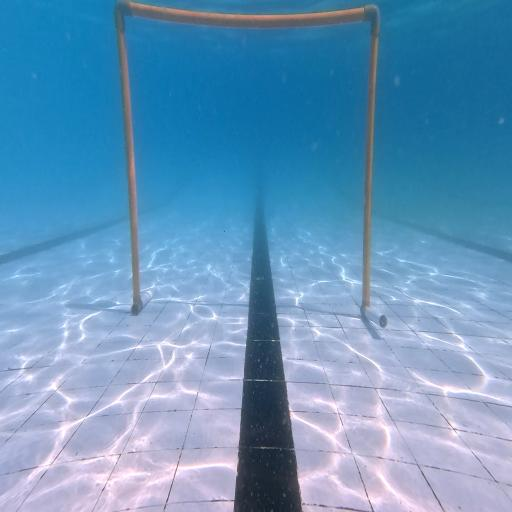gate: (114, 0, 388, 328)
